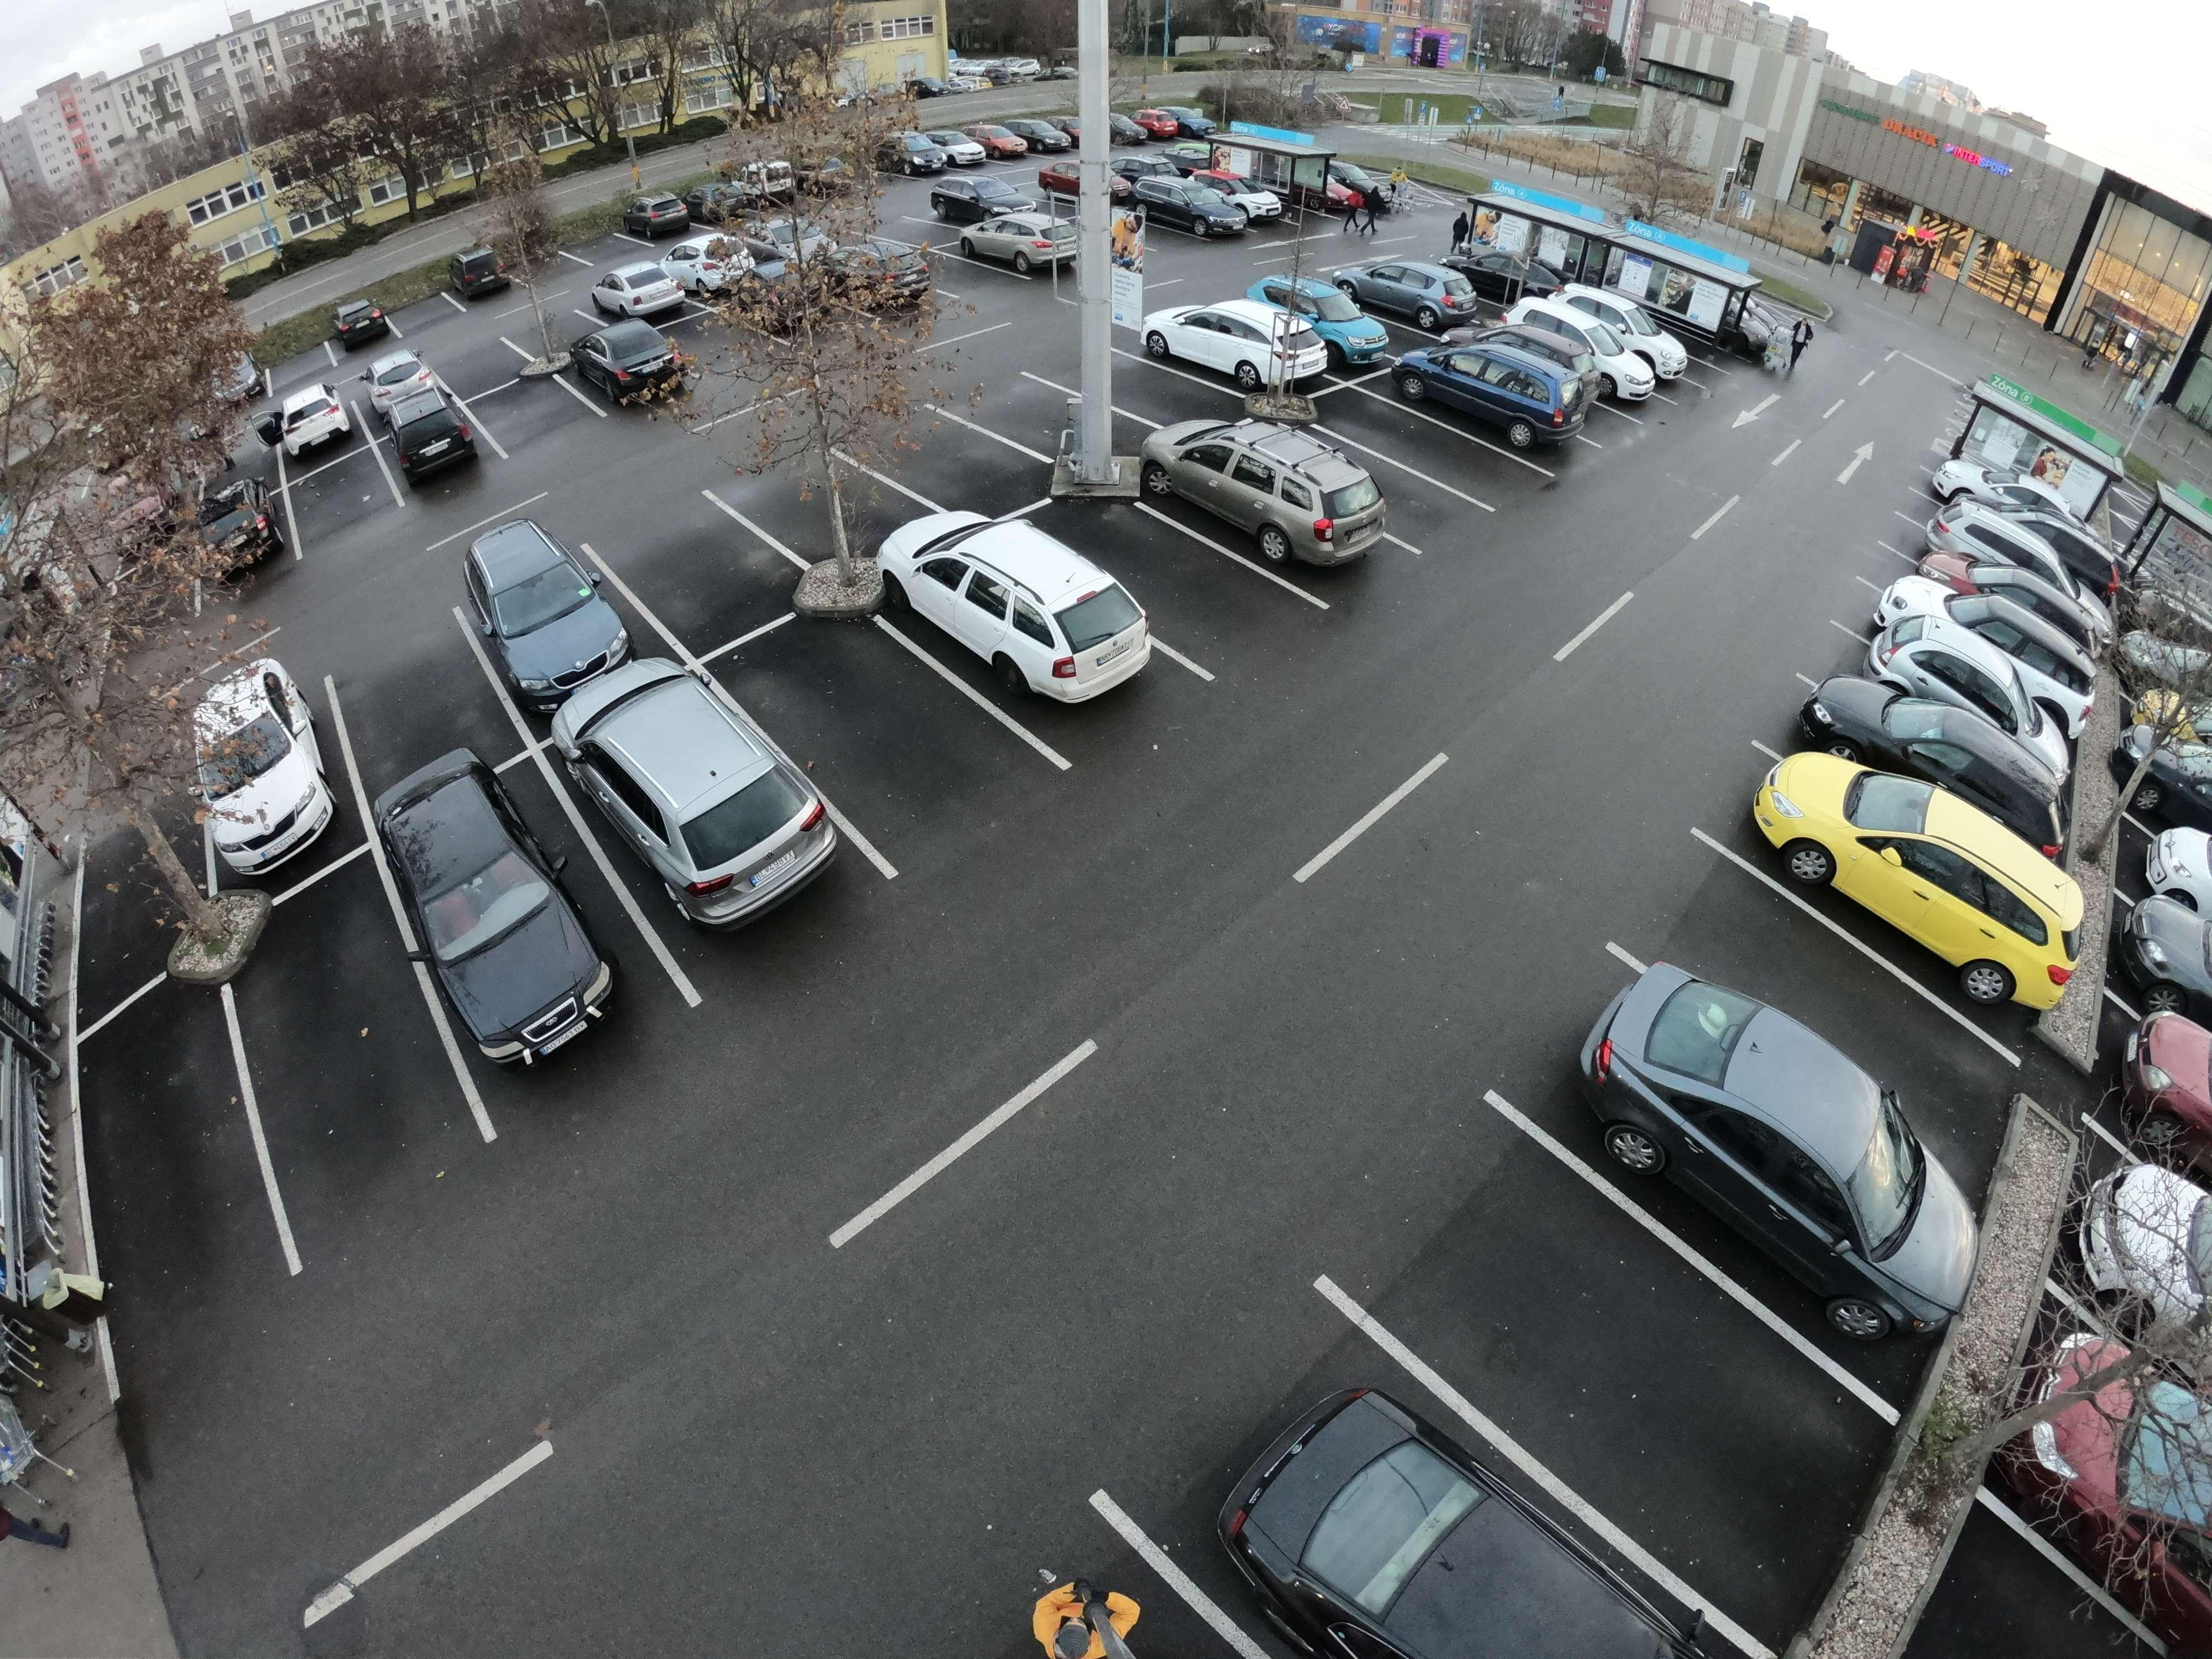empty: (1550, 943, 2003, 1319), (1211, 1378, 1737, 1652), (388, 739, 641, 1063), (570, 664, 850, 939), (1731, 767, 2090, 967), (880, 518, 1162, 704), (185, 655, 355, 864), (1803, 688, 2076, 816), (1160, 427, 1397, 570), (456, 519, 639, 687), (1872, 617, 2101, 741), (1918, 559, 2114, 664), (1150, 303, 1338, 394), (1406, 343, 1580, 441), (1507, 307, 1676, 397), (1258, 279, 1393, 366), (568, 326, 698, 413), (1336, 258, 1482, 335), (1134, 178, 1270, 246), (954, 213, 1076, 282), (385, 399, 484, 484), (599, 261, 709, 322), (272, 392, 362, 462), (448, 244, 529, 301), (331, 305, 397, 352)
occupied: (1463, 1251, 1719, 1419), (84, 1073, 246, 1263), (260, 988, 435, 1129), (1726, 931, 1905, 1033), (798, 674, 951, 772), (970, 364, 1089, 462), (359, 666, 489, 746), (625, 523, 756, 601), (1089, 537, 1212, 615), (754, 458, 866, 528), (906, 434, 1012, 493), (305, 469, 395, 532), (1109, 368, 1204, 423), (495, 392, 582, 444), (1372, 423, 1468, 469), (444, 342, 524, 385)
